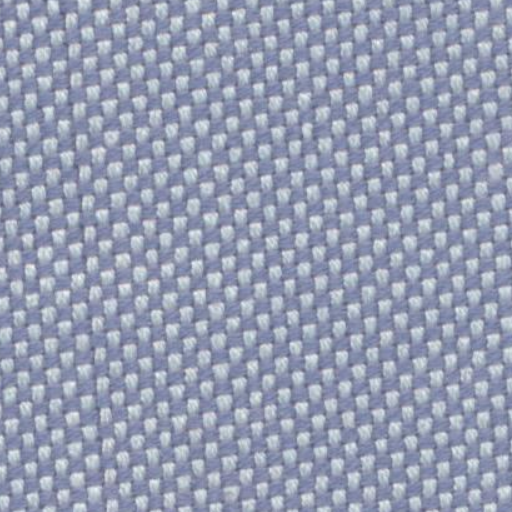TuoSha: (28, 27, 128, 502)
